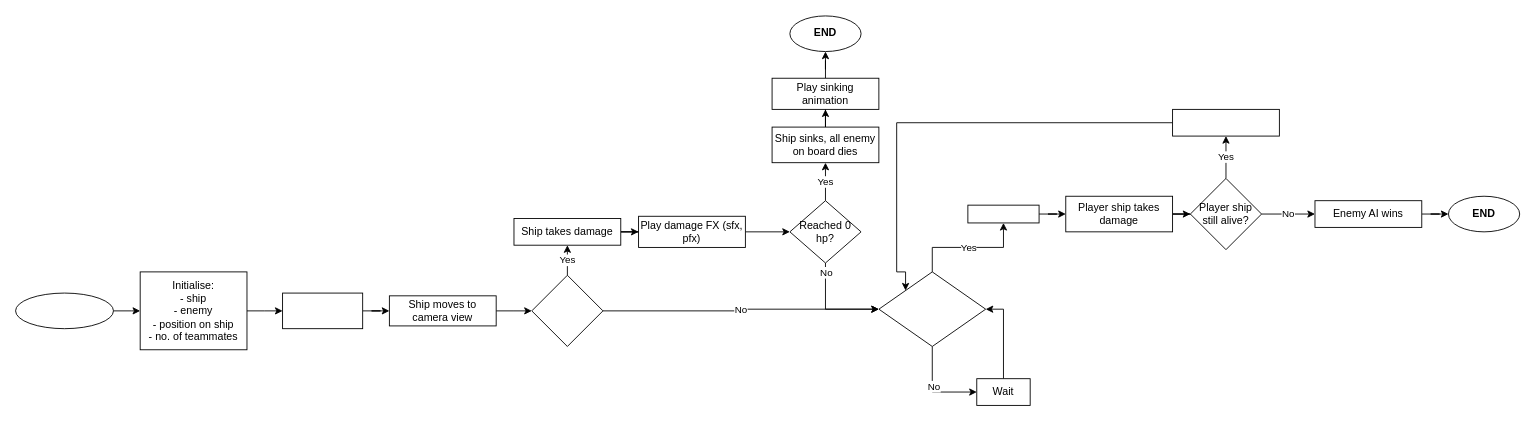
The diagram is 1535 pixels wide and 421 high, and some of its shapes have lost their labels. The centre of each missing label's shape, as x and y in pixels:
"Reload cannon": point (1225, 122)
Cannon in range of player ship?: point (932, 308)
Fire cannon: point (1003, 213)
Go to cannon: point (322, 310)
Shot by player?: point (567, 310)
START: point (64, 310)
